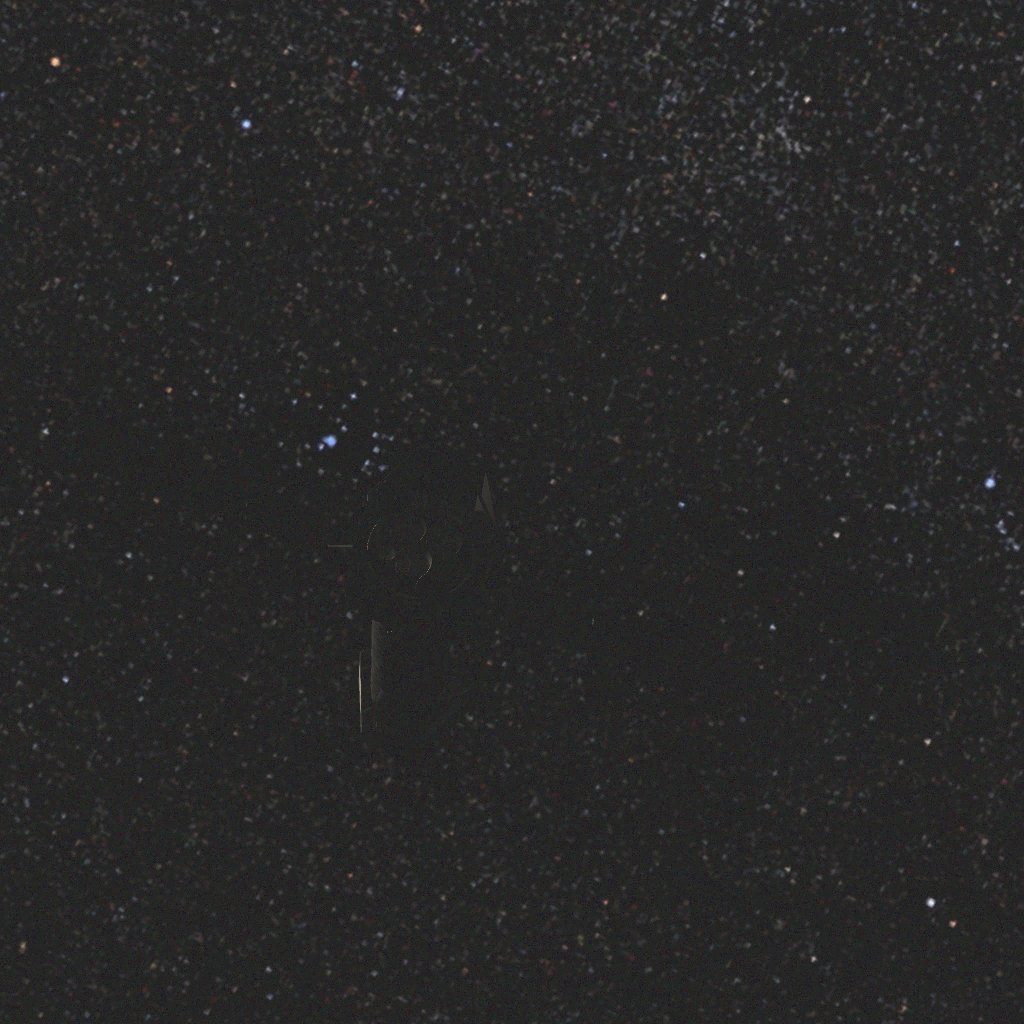xmm_newton: (95, 429, 750, 757)
